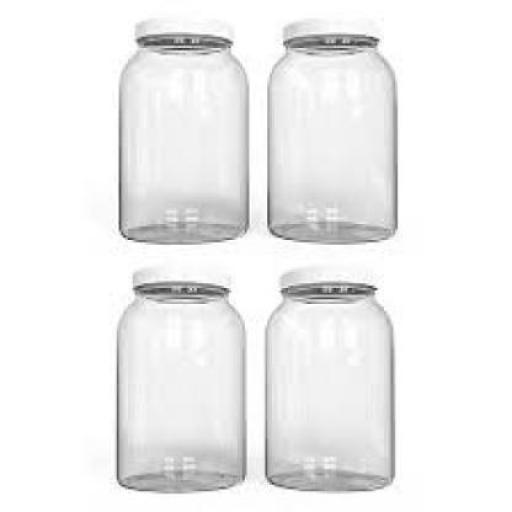glass: (112, 34, 249, 240), (112, 283, 245, 494), (262, 34, 396, 242), (265, 284, 396, 492)
plastic: (278, 262, 371, 291), (132, 16, 228, 42), (133, 260, 226, 286), (281, 16, 375, 34)
